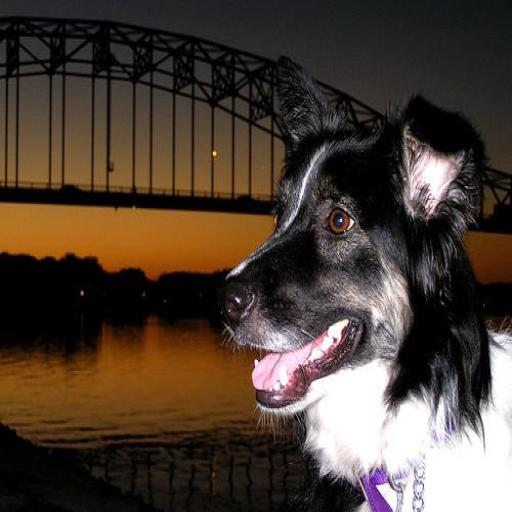dog_face: (217, 63, 468, 428)
